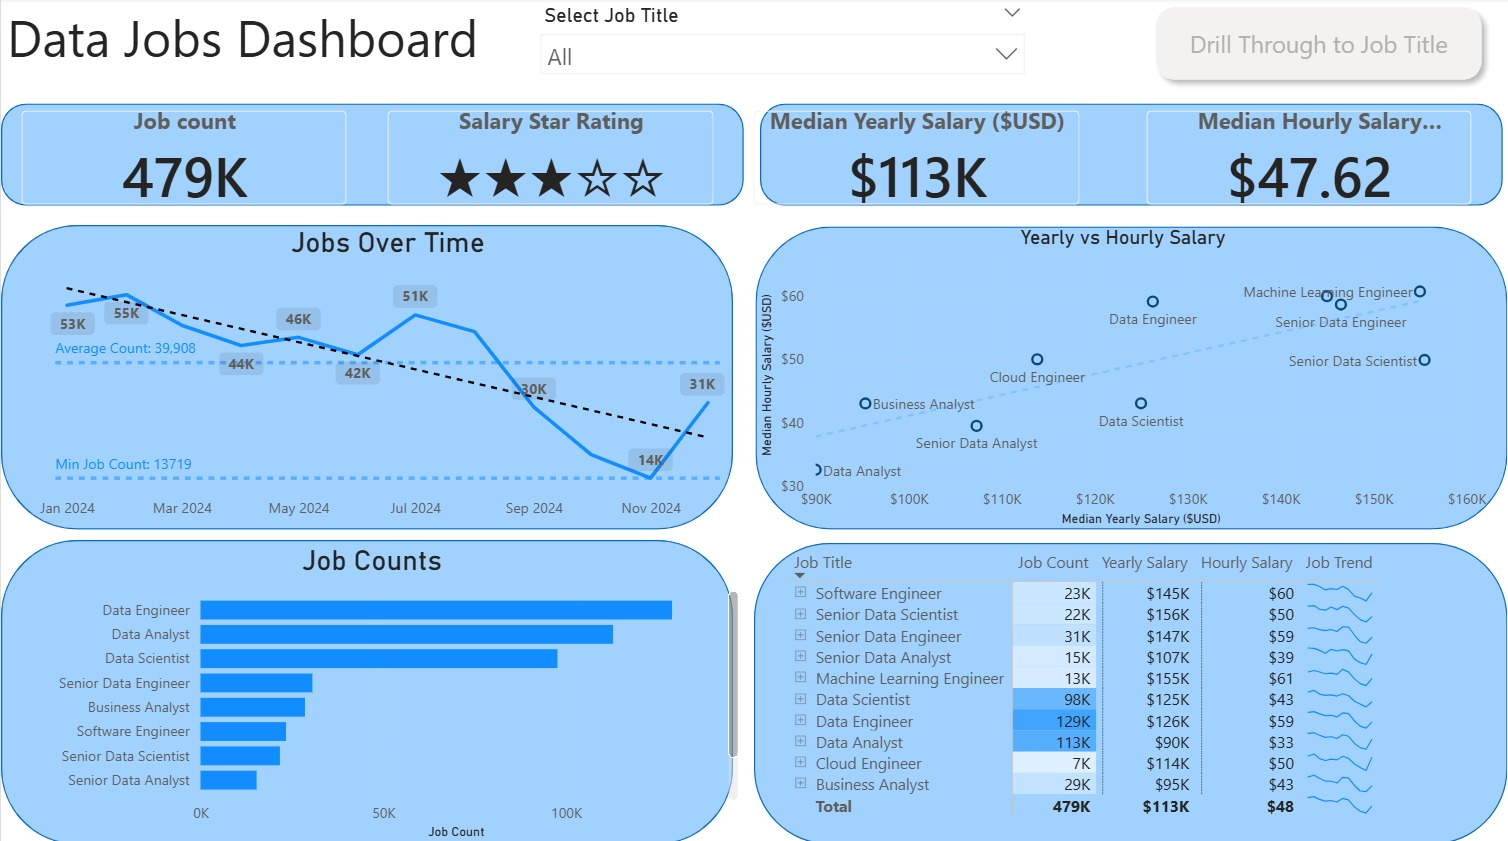

What the dashboard file says about the page in this screenshot:
{"tool":"powerbi","page":{"name":"Data Jobs Dashboard","canvas":[1280,720],"ordinal":0},"visuals":[{"type":"group","id":"g1","title":"Background","box":[0,90.1,1279.1,629.3],"z":0},{"type":"shape","box":[0,90.1,630.4,86.7],"z":0,"group":"g1"},{"type":"shape","box":[644.8,90.1,630.4,86.7],"z":1000,"group":"g1"},{"type":"barChart","title":"Job Counts","fields":{"Category":["job_postings_flat.job_title_short"],"Y":["CountNonNull(job_postings_flat.job_title_short)"]},"box":[0,463.6,630.4,255.7],"z":1000},{"type":"shape","box":[0,193.6,621.3,258.5],"z":2000,"group":"g1"},{"type":"lineChart","title":"Jobs Over Time","fields":{"Category":["job_postings_flat.job_posted_date.Variation.Date Hierarchy.Year","job_postings_flat.job_posted_date.Variation.Date Hierarchy.Quarter","job_postings_flat.job_posted_date.Variation.Date Hierarchy.Month","job_postings_flat.job_posted_date.Variation.Date Hierarchy.Day"],"Y":["CountNonNull(job_postings_flat.job_title_short)"]},"box":[26.4,193.8,604,258.5],"z":2000},{"type":"textbox","box":[0,0,476.2,77.7],"z":3000},{"type":"shape","box":[640.9,194.2,638.2,257.1],"z":3000,"group":"g1"},{"type":"shape","box":[0,461,621.3,258.5],"z":4000,"group":"g1"},{"type":"pivotTable","fields":{"Rows":["job_postings_flat.job_title_short","job_postings_flat.job_posted_date.Variation.Date Hierarchy.Year","job_postings_flat.job_posted_date.Variation.Date Hierarchy.Quarter","job_postings_flat.job_posted_date.Variation.Date Hierarchy.Month","job_postings_flat.job_posted_date.Variation.Date Hierarchy.Day"],"Values":["CountNonNull(job_postings_flat.job_title_short)","Median(job_postings_flat.salary_year_avg)","Median(job_postings_flat.salary_hour_avg)","SparklineData(CountNonNull(job_postings_flat.job_title_short)_[job_postings_flat.job_posted_date.Variation.Date Hierarch"]},"box":[662.8,464.1,616.2,243.7],"z":4000},{"type":"slicer","fields":{"Values":["job_postings_flat.job_title_short"]},"box":[448.2,0,430.3,67.5],"z":5000},{"type":"shape","box":[639.6,463.2,639.6,255.8],"z":5000,"group":"g1"},{"type":"cardVisual","fields":{"Data":["CountNonNull(job_postings_flat.job_title_short)"]},"box":[0,78.9,310.2,114.5],"z":6000},{"type":"scatterChart","title":"Yearly vs Hourly Salary ","fields":{"Y":["Median(job_postings_flat.salary_hour_avg)"],"X":["Median(job_postings_flat.salary_year_avg)"],"Series":["job_postings_flat.job_title_short"]},"box":[639.6,193.8,626.4,259.8],"z":7000},{"type":"cardVisual","fields":{"Data":["job_postings_flat.Salary Star Rating"]},"box":[310.2,78.9,311.3,114.5],"z":8000},{"type":"cardVisual","fields":{"Data":["Median(job_postings_flat.salary_year_avg)"]},"box":[621.5,78.9,311.3,114.5],"z":9000},{"type":"cardVisual","fields":{"Data":["Median(job_postings_flat.salary_hour_avg)"]},"box":[954.9,78.9,310.7,114.6],"z":10000},{"type":"actionButton","box":[971.5,0,294.1,78.9],"z":11000}]}

Visuals, with their boxes in screenshot pixels (x1, y1, x2, y2), scaled from the page's 1280x720 canvas onto the 1508x841 screenshot:
"Background" group: bbox(0, 105, 1507, 840)
shape: bbox(0, 105, 743, 207)
shape: bbox(760, 105, 1502, 207)
"Job Counts" barChart: bbox(0, 542, 743, 840)
shape: bbox(0, 226, 732, 528)
"Jobs Over Time" lineChart: bbox(31, 226, 743, 528)
textbox: bbox(0, 0, 561, 91)
shape: bbox(755, 227, 1507, 527)
shape: bbox(0, 538, 732, 840)
pivotTable - job_postings_flat.job_title_short x job_postings_flat.job_posted_date.Variation.Date Hierarchy.Year: bbox(781, 542, 1507, 827)
slicer - job_postings_flat.job_title_short: bbox(528, 0, 1035, 79)
shape: bbox(754, 541, 1507, 840)
cardVisual - CountNonNull(job_postings_flat.job_title_short): bbox(0, 92, 365, 226)
"Yearly vs Hourly Salary " scatterChart: bbox(754, 226, 1492, 530)
cardVisual - job_postings_flat.Salary Star Rating: bbox(365, 92, 732, 226)
cardVisual - Median(job_postings_flat.salary_year_avg): bbox(732, 92, 1099, 226)
cardVisual - Median(job_postings_flat.salary_hour_avg): bbox(1125, 92, 1491, 226)
actionButton: bbox(1145, 0, 1491, 92)
